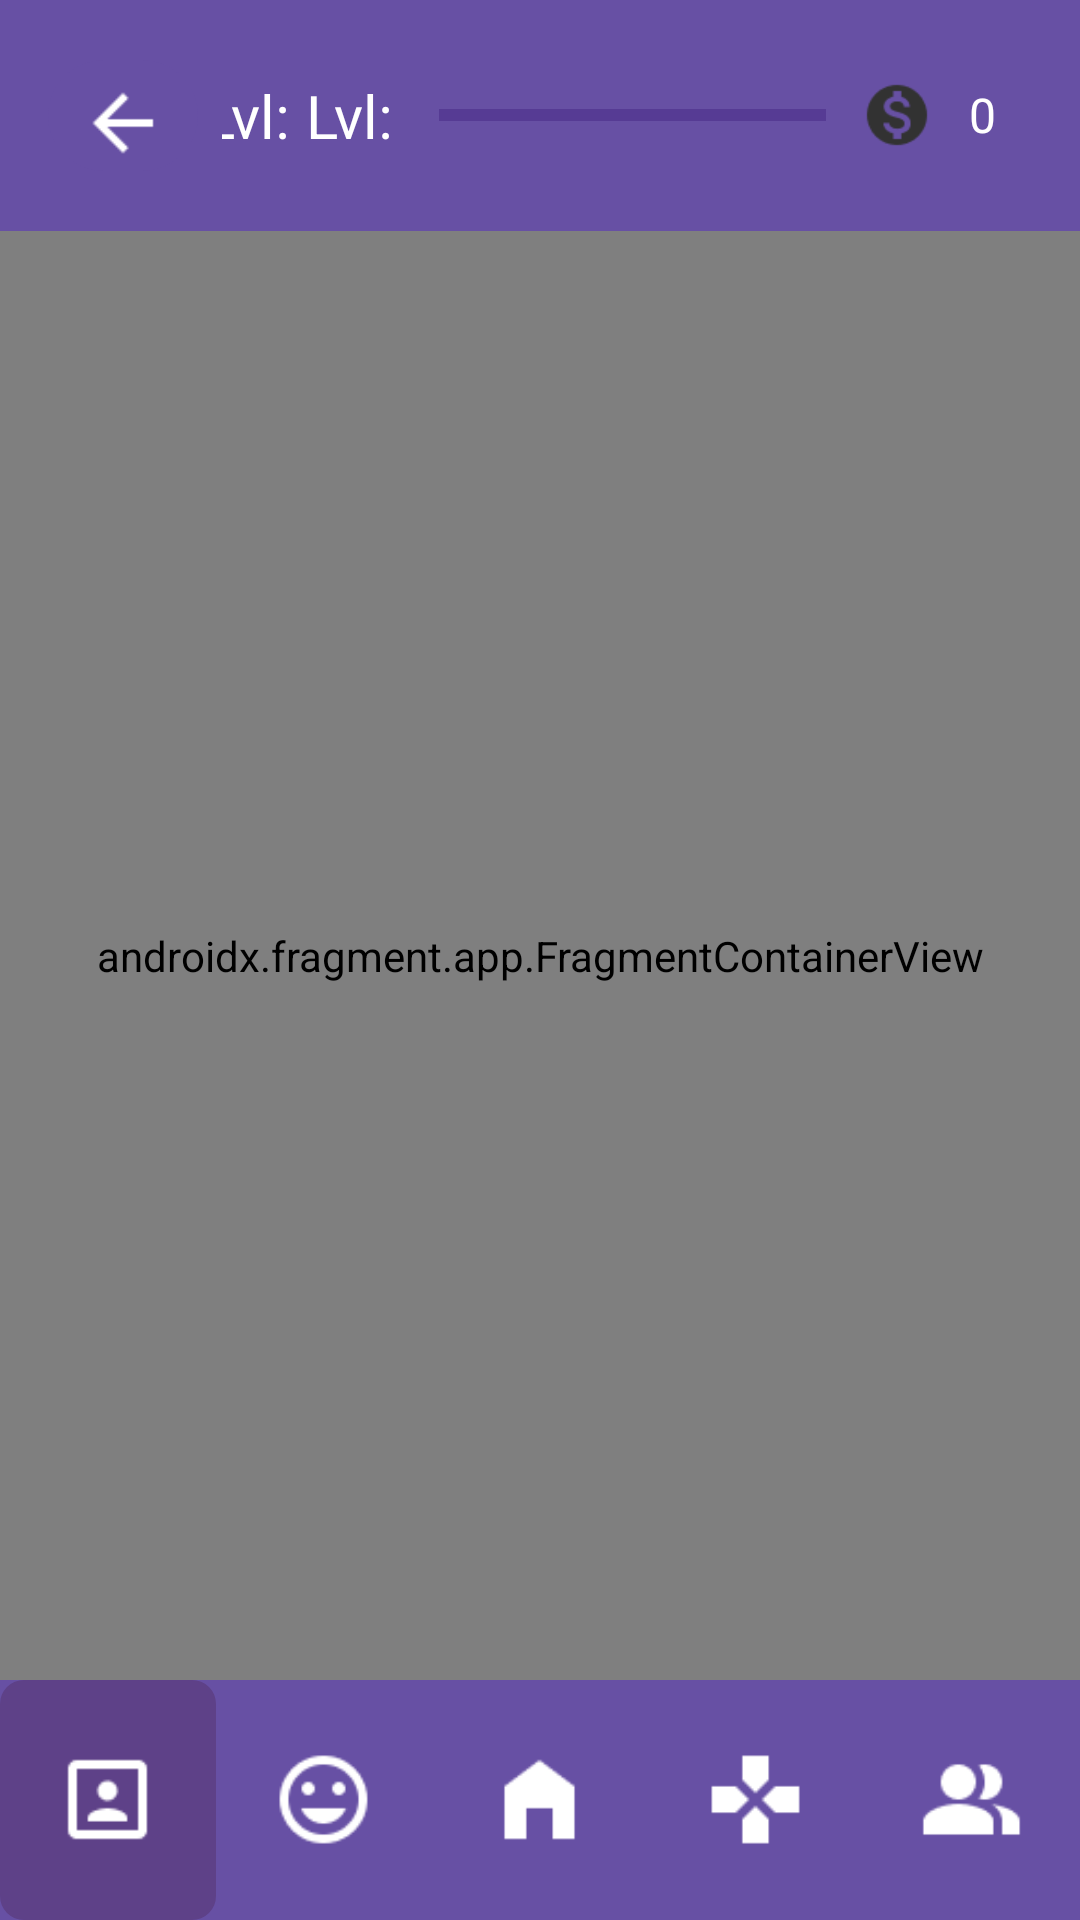

Point at icon controls on the screen. Image size 1080×1920, points as (x=x, y=y).
arrow left: (x=123, y=123)
dollar: (x=897, y=115)
